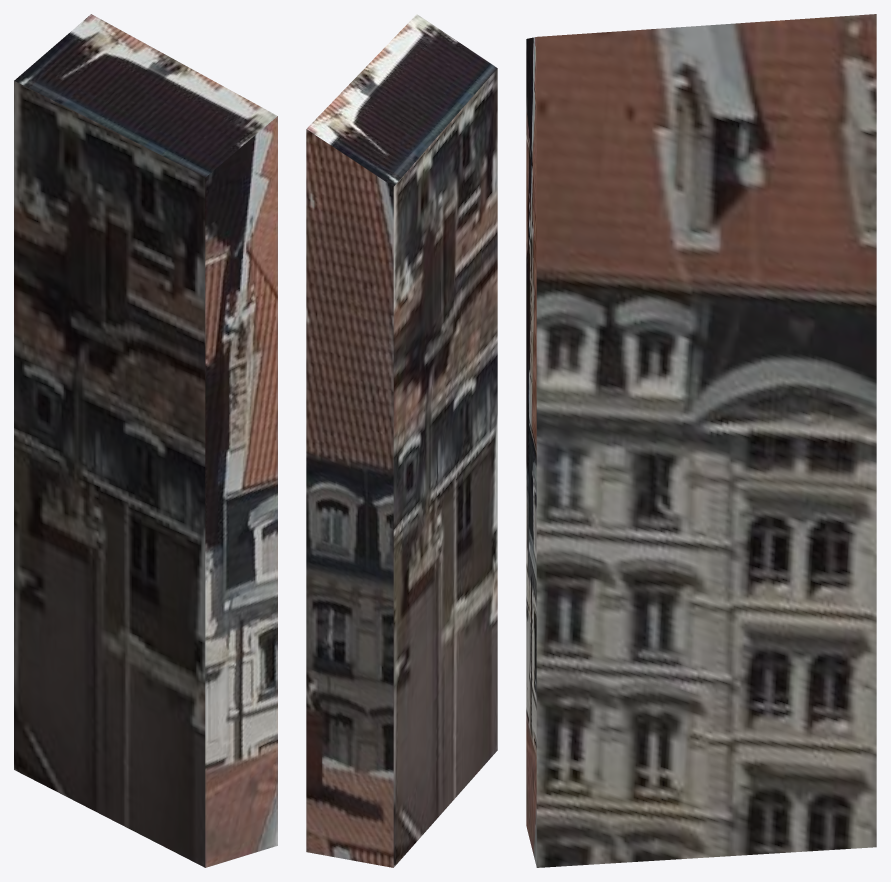
3 views of the same model, side by side, from view 1: azimuth 30°, elevation 25°; view 2: azimuth 150°, elevation 25°; view 3: azimuth 270°, elevation 25° (orthographic). The views are drawn at different scales.
Visible parts, largest first — view 1: Z_UP; view 2: Z_UP; view 3: Z_UP.
Part boxes in pixels (x1=…): Z_UP: x1=14, y1=14, x2=277, y2=867; Z_UP: x1=306, y1=14, x2=497, y2=867; Z_UP: x1=526, y1=14, x2=876, y2=867.
Size of the model in its own units: 3.94 by 22.96 by 8.76.
2 materials, 1 textured.
